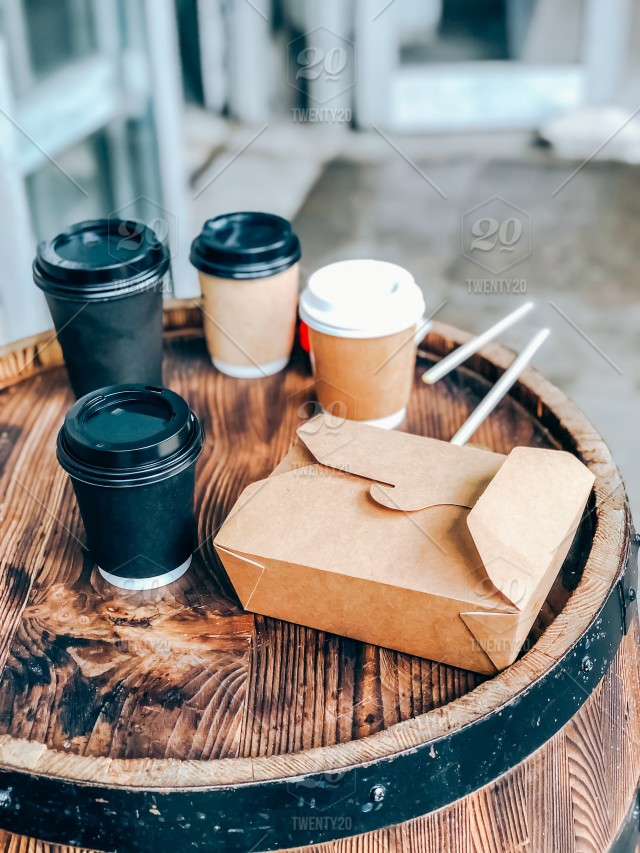cup: (37, 379, 215, 594), (18, 210, 182, 382), (298, 250, 446, 423), (183, 205, 304, 382)
